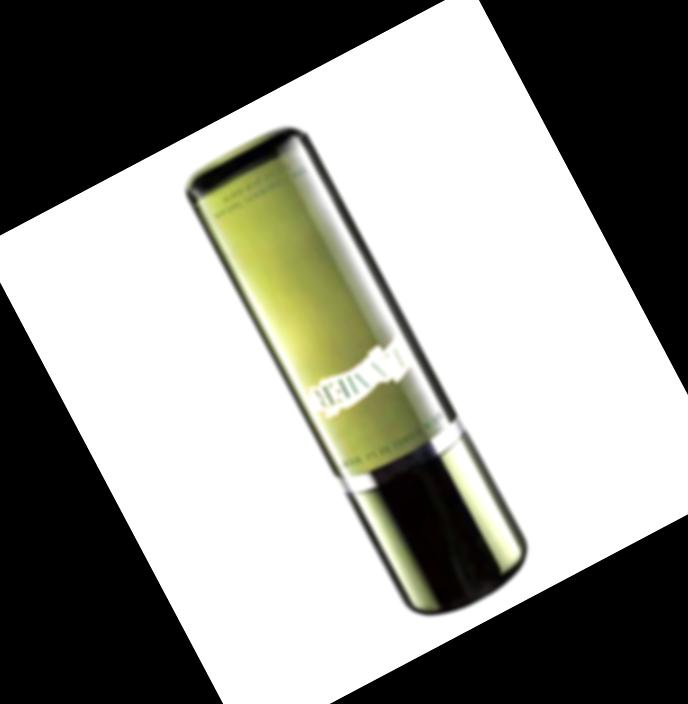cosmetic: (172, 118, 535, 630)
